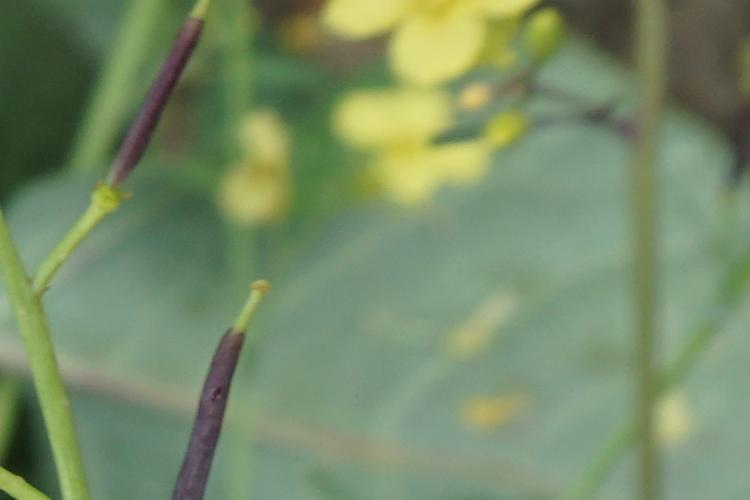bud: (530, 12, 578, 70)
pod: (92, 6, 240, 237), (145, 287, 295, 500)
yellow: (326, 6, 525, 71), (351, 142, 515, 217), (325, 80, 488, 155)
